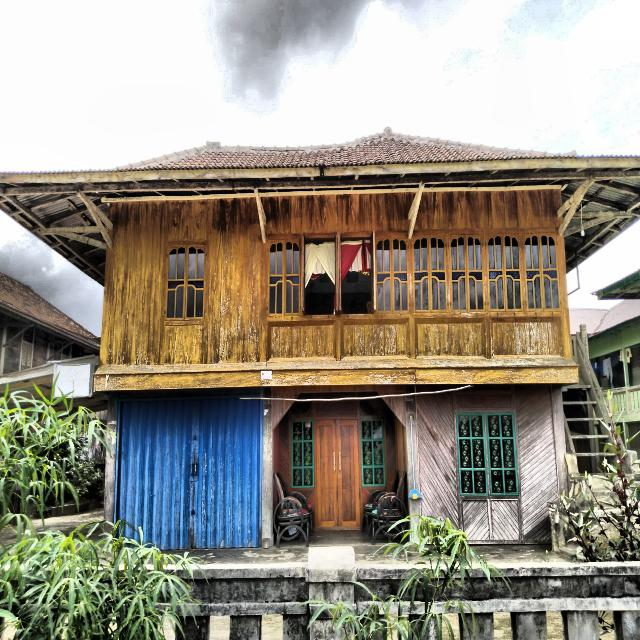door: (315, 418, 361, 531)
roof: (0, 129, 640, 240)
wall: (100, 197, 267, 365), (416, 384, 559, 544), (480, 189, 572, 359), (337, 192, 417, 361), (409, 191, 488, 360), (261, 195, 339, 362), (416, 385, 468, 392)
window: (456, 412, 519, 496), (165, 241, 206, 321), (338, 230, 376, 315), (485, 233, 524, 312), (302, 232, 338, 316), (523, 233, 561, 312), (268, 233, 303, 317), (450, 234, 486, 313), (412, 235, 448, 313), (375, 235, 410, 314), (360, 418, 386, 486), (291, 419, 315, 489)
